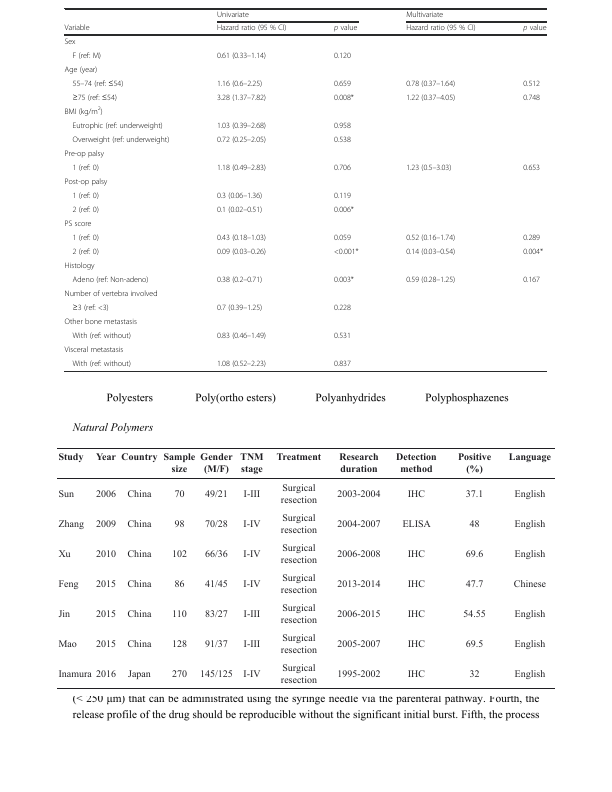borderless: (63, 7, 547, 371), (56, 447, 555, 688)
cell: (71, 135, 170, 145), (395, 453, 437, 476), (338, 453, 379, 476), (64, 289, 158, 299), (279, 513, 318, 537), (71, 121, 164, 131), (279, 484, 318, 507), (279, 543, 318, 566), (279, 573, 318, 596), (279, 603, 318, 626), (279, 633, 318, 656), (279, 663, 318, 686), (457, 453, 492, 476), (162, 453, 196, 476), (199, 453, 233, 476), (71, 275, 149, 285), (64, 317, 138, 327), (405, 24, 477, 34), (216, 24, 287, 34), (71, 331, 132, 341), (71, 359, 132, 369), (64, 345, 124, 355), (239, 453, 264, 476), (336, 519, 381, 531), (71, 79, 124, 89), (275, 453, 322, 464), (216, 51, 267, 61), (405, 79, 456, 89), (216, 93, 267, 103), (405, 93, 456, 103), (216, 121, 267, 131), (216, 135, 267, 145), (216, 163, 267, 173), (216, 233, 267, 243), (405, 233, 456, 243), (216, 247, 267, 257), (405, 247, 456, 257), (405, 275, 456, 285), (216, 331, 267, 341), (216, 359, 267, 369), (507, 453, 552, 464), (336, 490, 381, 501), (336, 549, 381, 560), (336, 579, 381, 590), (336, 609, 381, 620), (336, 639, 381, 650), (336, 669, 381, 680), (216, 79, 263, 89), (71, 93, 118, 103), (405, 163, 452, 173), (216, 191, 263, 201), (216, 205, 263, 215), (216, 275, 263, 285), (216, 303, 263, 313), (64, 106, 104, 117), (64, 177, 108, 187), (120, 453, 158, 464), (64, 149, 105, 159), (513, 519, 546, 531), (71, 303, 110, 313), (512, 579, 547, 590), (57, 669, 92, 680), (199, 669, 233, 680), (513, 490, 546, 501), (513, 549, 546, 560), (513, 609, 546, 620), (513, 639, 546, 650), (513, 669, 546, 680), (401, 519, 431, 531), (405, 11, 444, 20), (64, 65, 98, 75), (57, 519, 85, 531), (126, 519, 152, 531), (71, 51, 102, 61), (64, 261, 95, 271), (216, 11, 250, 20), (57, 453, 84, 464), (71, 163, 100, 173), (71, 191, 100, 201), (71, 205, 100, 215), (71, 233, 100, 243), (71, 247, 100, 257), (204, 519, 228, 531), (126, 490, 152, 501), (126, 549, 152, 560), (126, 579, 152, 590), (126, 609, 152, 620), (126, 639, 152, 650), (64, 219, 92, 229), (333, 247, 360, 257), (204, 490, 228, 501), (95, 519, 117, 531), (204, 549, 228, 560), (204, 579, 228, 590), (204, 609, 228, 620), (462, 609, 486, 620), (204, 639, 228, 650), (127, 669, 151, 680), (64, 24, 90, 34), (333, 24, 358, 34), (522, 24, 547, 34), (95, 453, 117, 464), (94, 490, 116, 501), (94, 549, 116, 560), (57, 579, 79, 590), (95, 579, 117, 590), (95, 609, 117, 620), (95, 639, 117, 650), (95, 669, 117, 680), (242, 519, 261, 531), (333, 93, 355, 103), (333, 205, 355, 215), (522, 247, 544, 257), (333, 275, 355, 285), (406, 490, 426, 501), (464, 490, 484, 501), (406, 549, 426, 560), (464, 549, 484, 560), (406, 579, 426, 590), (464, 579, 484, 590), (406, 609, 426, 620), (57, 639, 77, 650), (406, 639, 426, 650), (464, 639, 484, 650), (406, 669, 426, 680), (242, 490, 261, 501), (242, 549, 261, 560), (242, 579, 261, 590), (242, 609, 261, 620), (242, 639, 261, 650), (242, 669, 261, 680), (57, 490, 75, 501), (333, 51, 352, 61), (333, 79, 352, 89), (522, 79, 541, 89), (522, 93, 541, 103), (333, 121, 352, 131), (333, 135, 352, 145), (333, 163, 352, 173), (522, 163, 541, 173), (333, 191, 352, 201), (333, 233, 352, 243), (522, 233, 541, 243), (522, 275, 541, 285), (333, 303, 352, 313), (333, 331, 352, 341), (333, 359, 352, 369), (171, 549, 188, 560), (171, 639, 188, 650), (171, 669, 188, 680), (171, 609, 187, 620), (57, 549, 71, 560), (57, 609, 71, 620), (173, 519, 185, 531), (468, 519, 480, 531), (173, 490, 185, 501), (173, 579, 185, 590), (468, 669, 480, 680), (64, 37, 76, 47)
